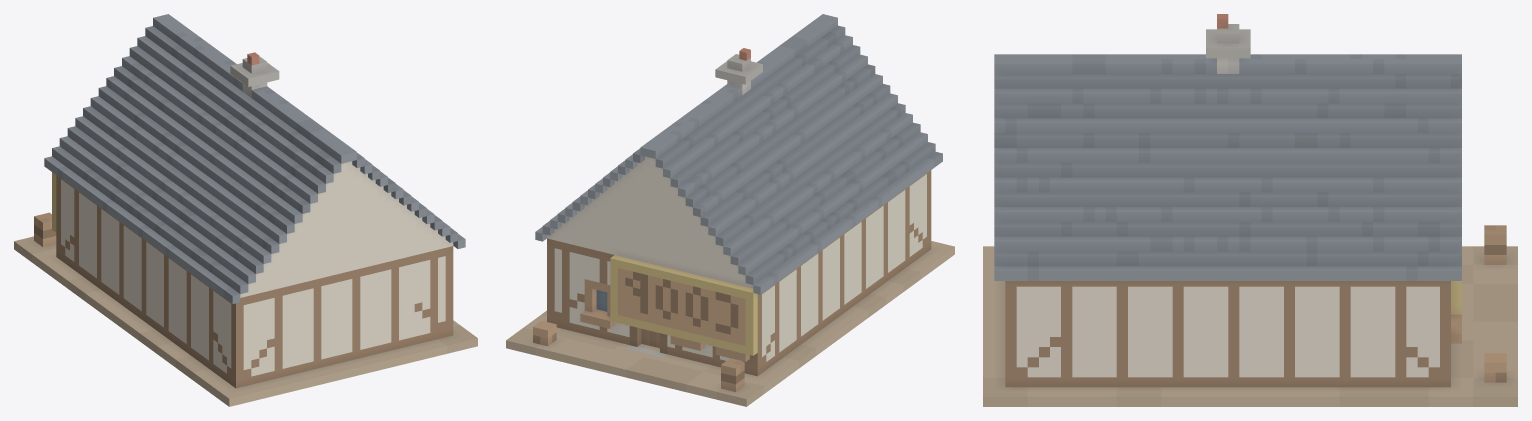
The model's file is cooperage.glb.
3 renders of one model, left to right at view 1: azimuth 30°, elevation 25°; view 2: azimuth 150°, elevation 25°; view 3: azimuth 270°, elevation 25°, orthographic. The views are drawn at different scales.
Visible parts, largest first — view 1: cooperage; view 2: cooperage; view 3: cooperage.
Boxes of the visible parts, x1=… form: cooperage: x1=14, y1=14, x2=477, y2=406; cooperage: x1=506, y1=14, x2=954, y2=406; cooperage: x1=983, y1=14, x2=1517, y2=406.
Bounding box in the file's own units: 4 × 3.88 × 6.
